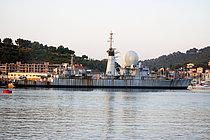MIL_Ship: (11, 48, 194, 90)
